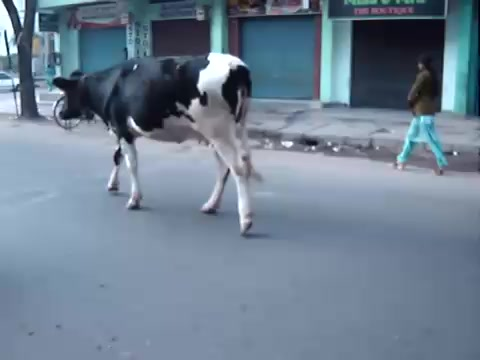cow: (54, 55, 264, 238)
